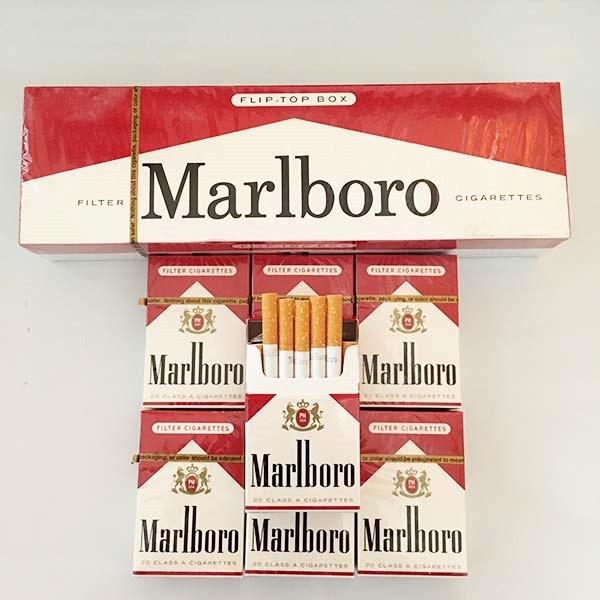marlboro_red: (137, 411, 244, 576), (362, 411, 466, 579), (249, 354, 359, 511), (143, 254, 247, 406), (357, 256, 459, 406)
